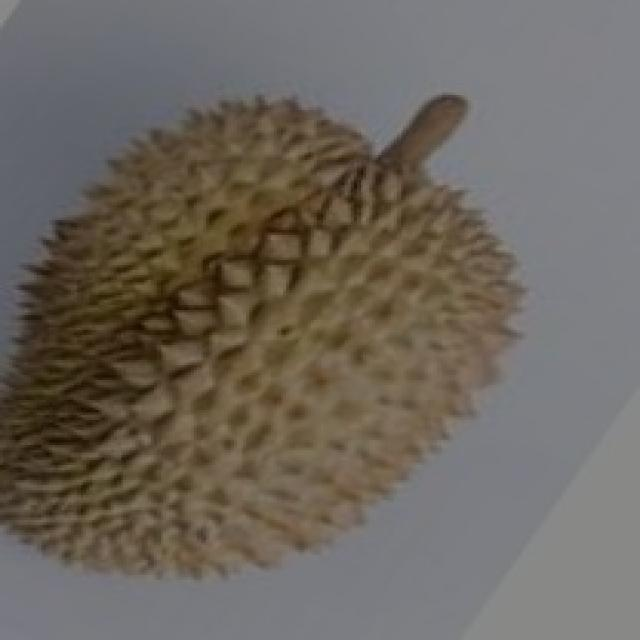fruit: (3, 250, 382, 638)
